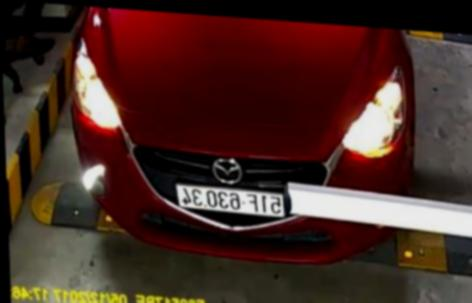License_Plate: (171, 180, 289, 222)
